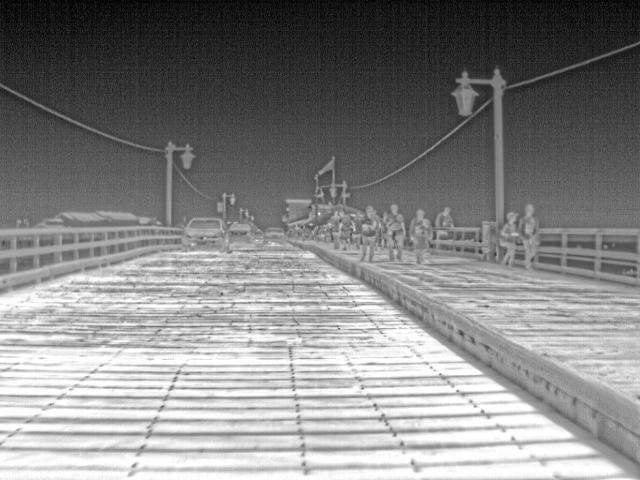car: (180, 216, 228, 250), (228, 221, 251, 241), (264, 226, 285, 244)
person: (518, 202, 546, 270), (408, 208, 437, 263), (357, 206, 384, 262), (383, 202, 407, 260), (497, 212, 518, 267), (432, 204, 456, 242), (339, 207, 356, 251), (326, 208, 341, 251), (351, 210, 365, 250)
